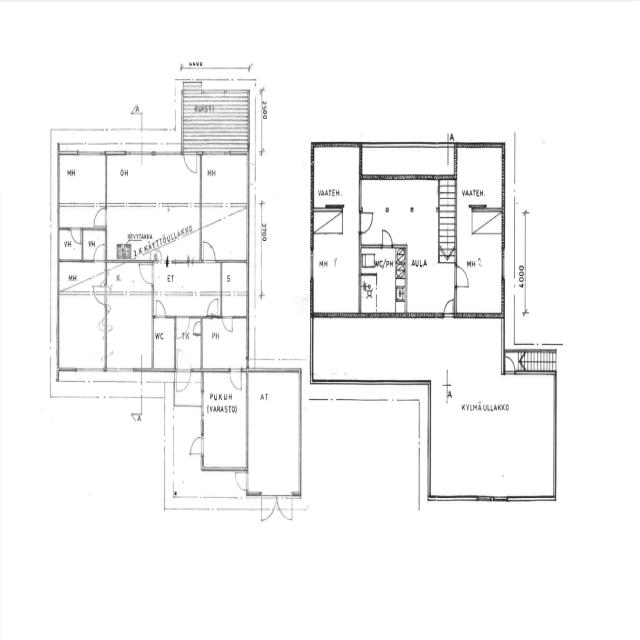door: (176, 344, 192, 394), (187, 433, 206, 459), (137, 259, 154, 287), (358, 209, 376, 235), (454, 261, 471, 288), (183, 148, 199, 175), (233, 467, 250, 492), (202, 238, 217, 264), (175, 314, 191, 338), (205, 295, 221, 318), (229, 365, 243, 391), (92, 281, 107, 305), (379, 227, 394, 249), (93, 204, 107, 227), (154, 297, 167, 319), (443, 296, 456, 317), (112, 139, 128, 156), (70, 226, 83, 246), (222, 314, 233, 334), (94, 242, 105, 261)
window: (432, 489, 479, 505), (206, 461, 236, 474), (73, 364, 103, 376), (111, 362, 136, 375), (500, 243, 507, 280), (358, 177, 365, 212), (199, 387, 206, 420), (308, 250, 315, 280)
zone: (107, 154, 200, 259), (313, 146, 360, 315), (246, 368, 302, 493), (359, 178, 446, 246), (455, 208, 505, 315), (199, 156, 250, 260), (59, 262, 106, 373), (201, 366, 248, 469), (153, 259, 223, 317), (57, 151, 107, 226), (404, 242, 456, 314), (106, 292, 152, 370), (359, 244, 404, 314), (456, 145, 506, 207), (199, 152, 249, 204), (201, 316, 247, 368), (174, 317, 201, 370), (259, 490, 296, 524), (153, 314, 175, 369), (220, 260, 248, 299), (58, 227, 83, 261), (82, 227, 105, 261), (220, 292, 248, 316)
